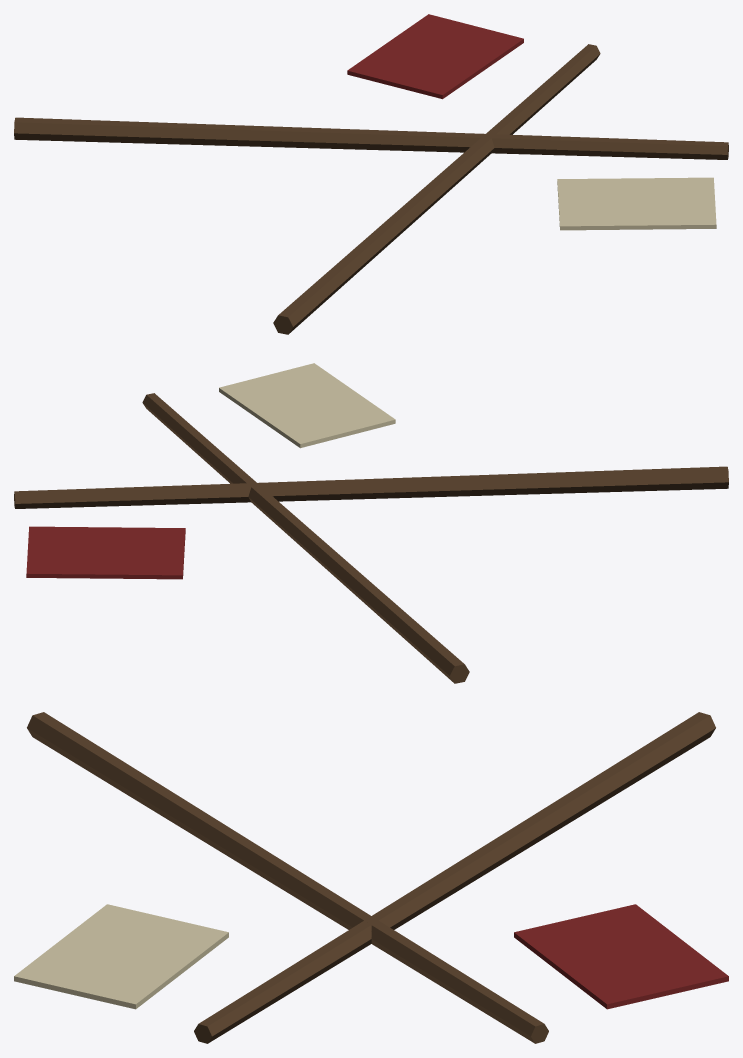
Rendered from s3_fallen_standards.glb.
3 renders of one model, top to bottom at view 1: azimuth 30°, elevation 25°; view 2: azimuth 150°, elevation 25°; view 3: azimuth 270°, elevation 25°, orthographic. The views are drawn at different scales.
Visible parts, largest first — view 1: s3_fallen_standards; view 2: s3_fallen_standards; view 3: s3_fallen_standards.
Boxes of the visible parts, x1=… form: s3_fallen_standards: x1=14, y1=14, x2=728, y2=334; s3_fallen_standards: x1=14, y1=363, x2=728, y2=683; s3_fallen_standards: x1=14, y1=712, x2=728, y2=1043.
Size of the model in its own units: 2.69 by 0.0866 by 2.57.
